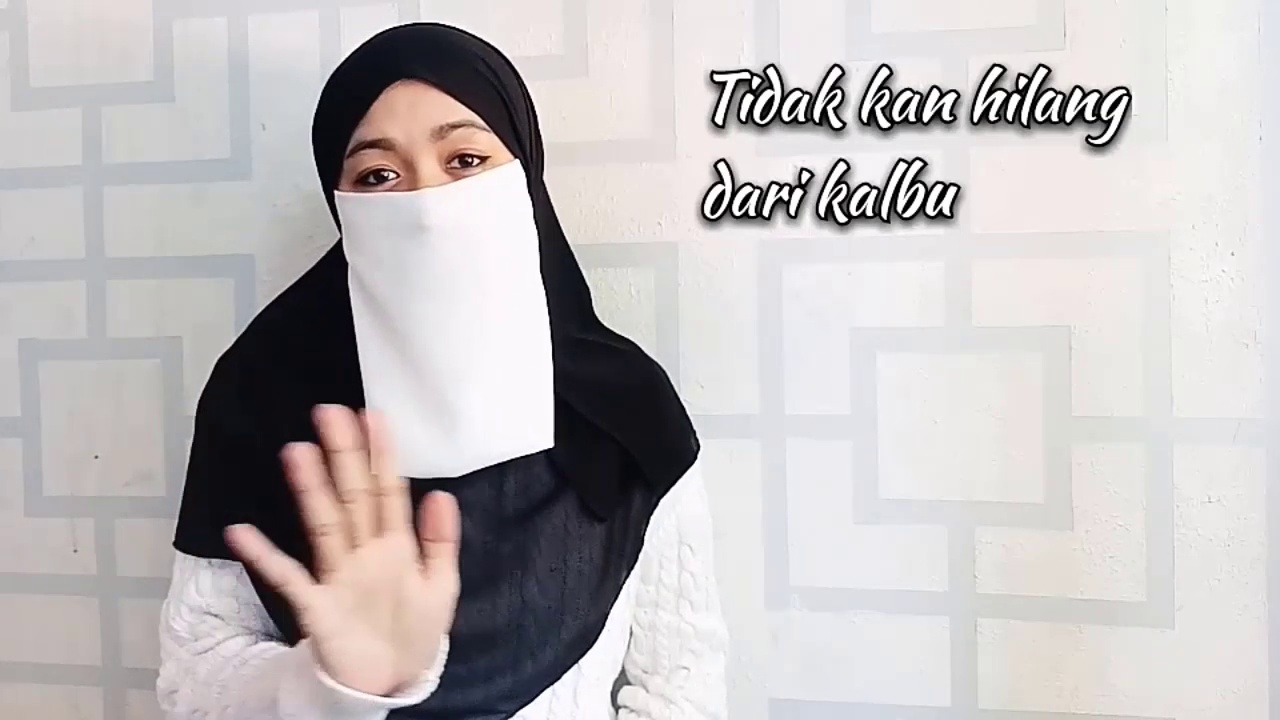TIDAK: (204, 19, 539, 707)
